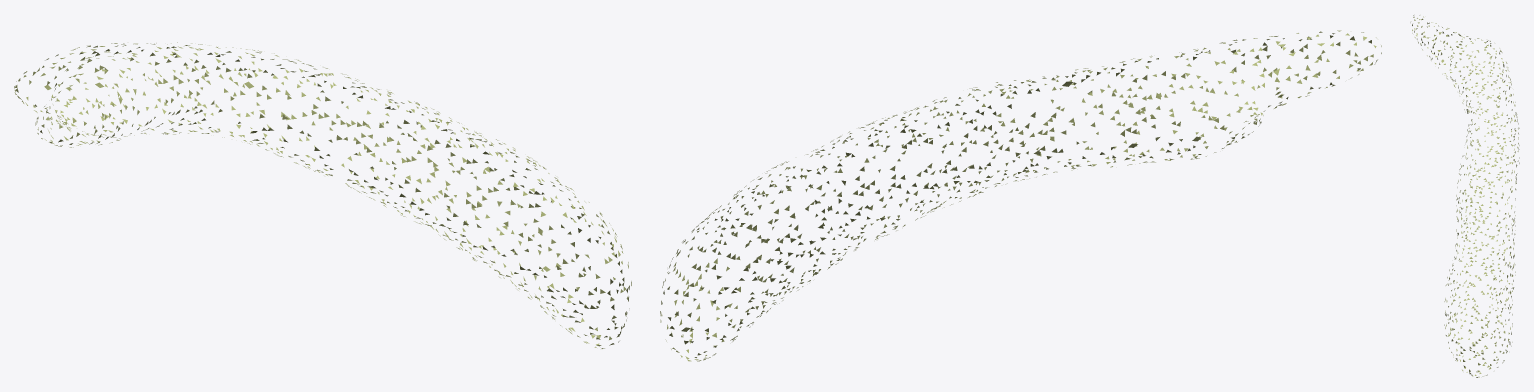
Rendered from morph_010.glb.
3 views of the same model, side by side, from view 1: azimuth 30°, elevation 25°; view 2: azimuth 150°, elevation 25°; view 3: azimuth 270°, elevation 25° (orthographic). The views are drawn at different scales.
Bounding box in the file's own units: 89.34 × 57.41 × 26.39.
